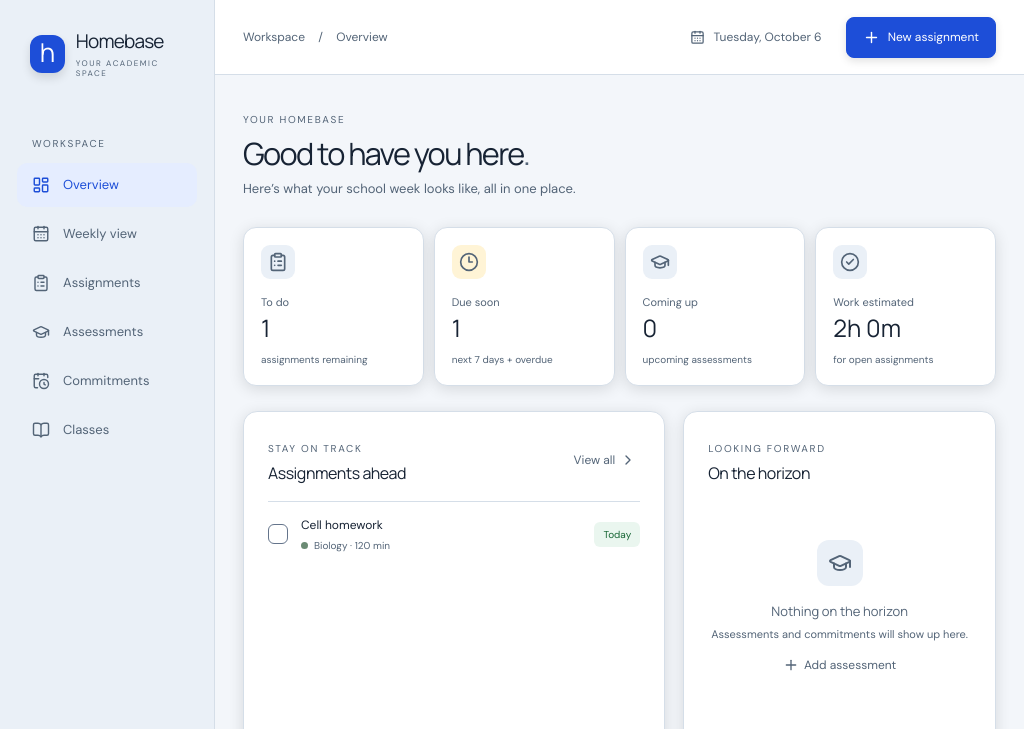
Test: availability CRUD and failed persistence › rejects nonpositive or missing end 16:00 without saving
Click the button "Weekly view" at (107, 234), box [17,212,197,256]
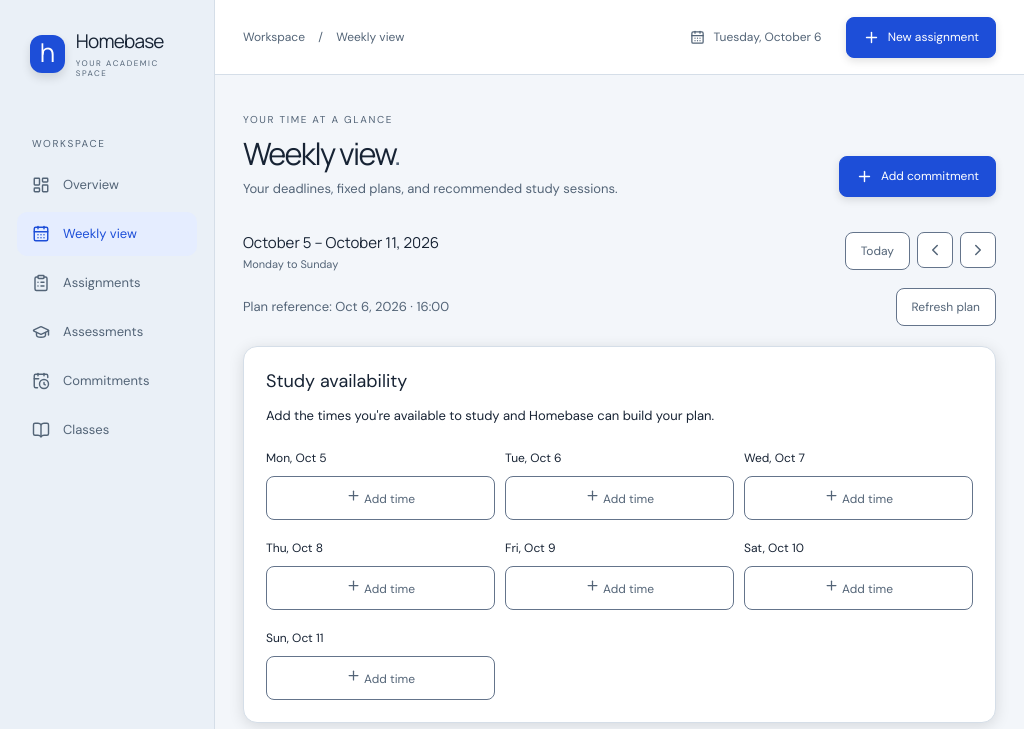
Click the button with aria-label "Add availability for Oct 6" at (620, 498), box [505,476,734,520]
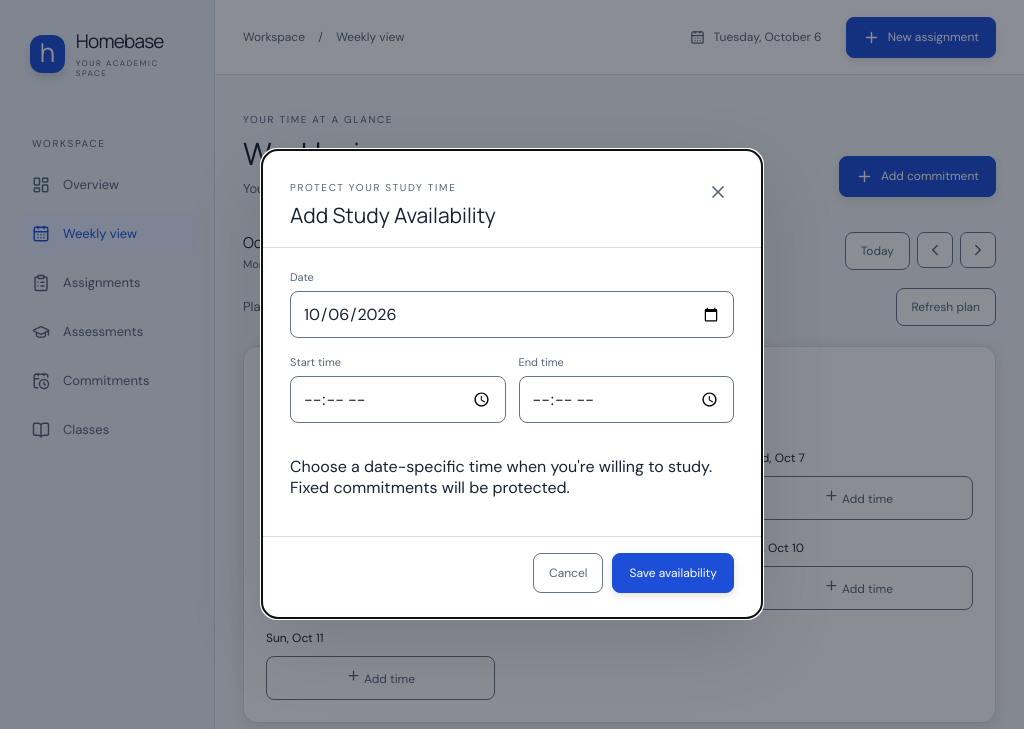
Type "16:00" into the time field labelled "Start time" at (398, 400), box [290,376,506,423]
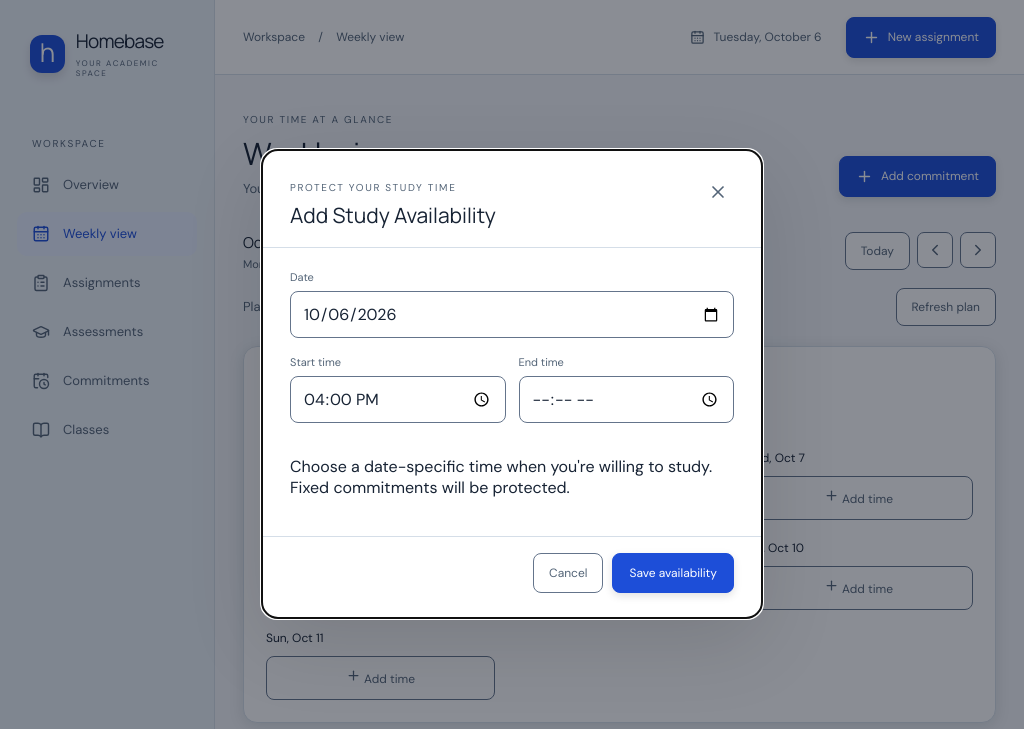
Type "16:00" into the time field labelled "End time" at (626, 400), box [518,376,734,423]
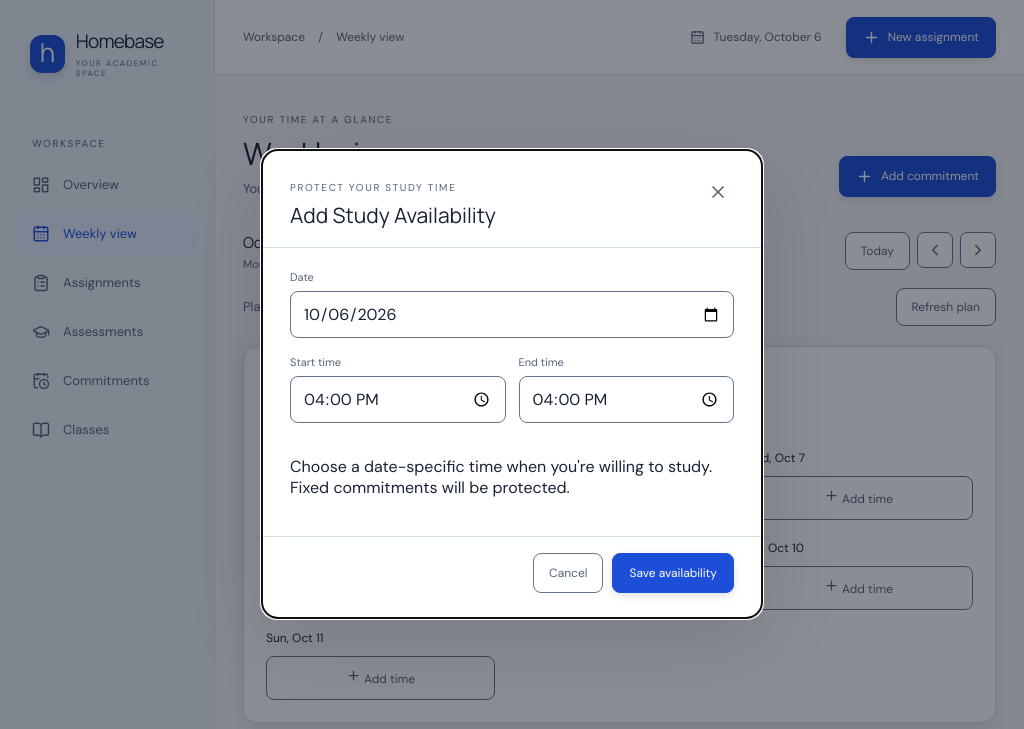
Submit the form, box [262,248,762,618]
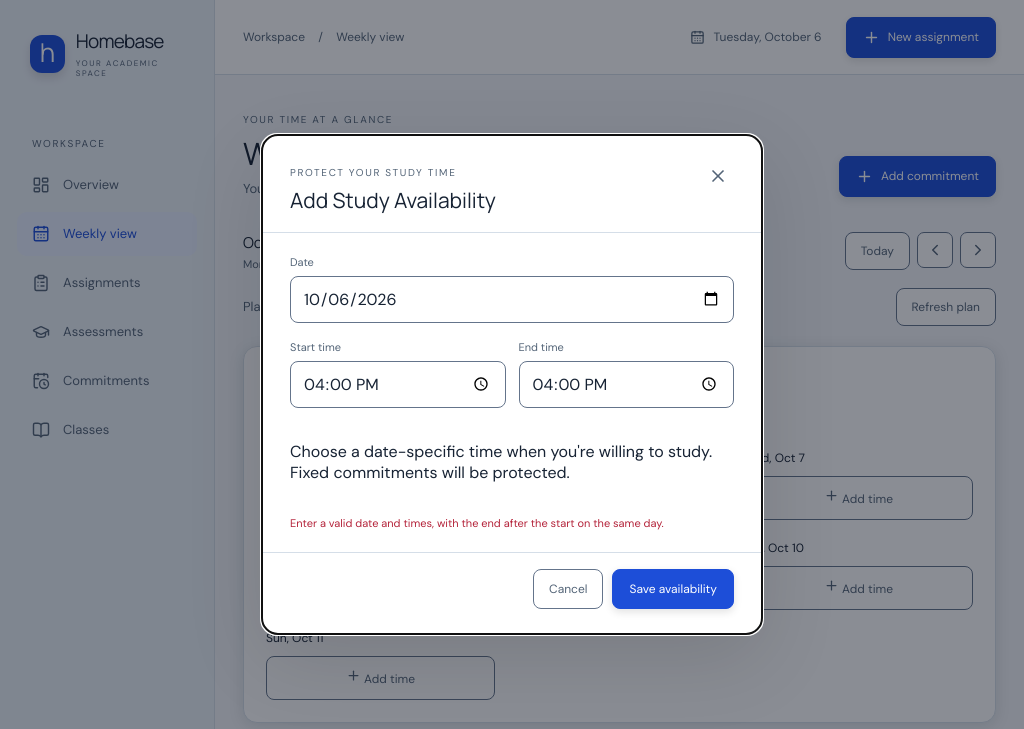
Expected: the message shows "valid date and times", [290,516,664,530]
